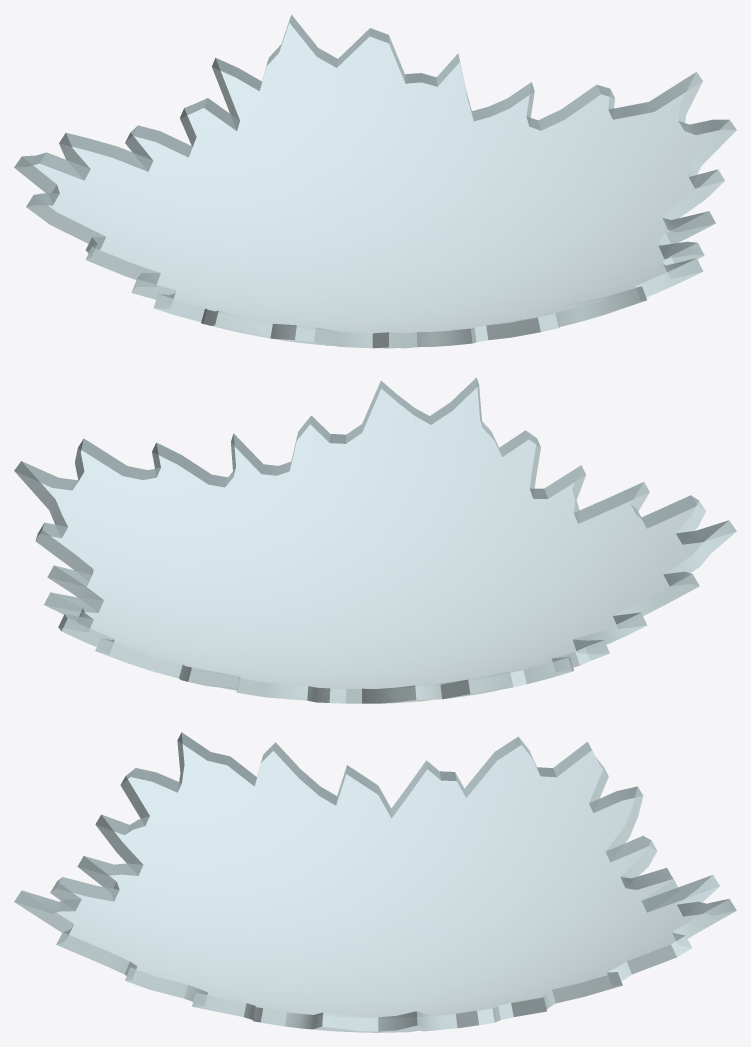
The model's file is SM_DomeShard_1.fbx.
3 renders of one model, top to bottom at view 1: azimuth 30°, elevation 25°; view 2: azimuth 150°, elevation 25°; view 3: azimuth 270°, elevation 25°, orthographic. The views are drawn at different scales.
Visible parts, largest first — view 1: SM_DomeShard_1; view 2: SM_DomeShard_1; view 3: SM_DomeShard_1.
Part boxes in pixels (x1,y1,x2,y2): SM_DomeShard_1: (14,15,736,348); SM_DomeShard_1: (14,377,736,703); SM_DomeShard_1: (14,732,736,1032).
Bounding box in the file's own units: 0.96 × 0.1695 × 0.9979.
